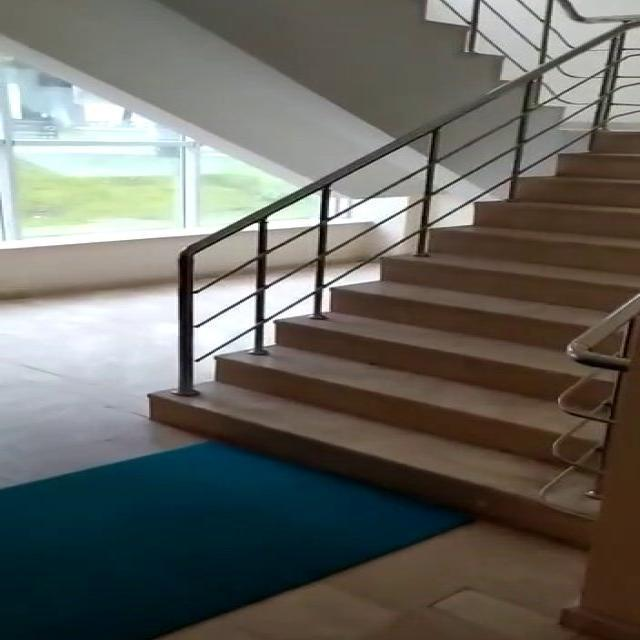stairs: (146, 127, 638, 548)
